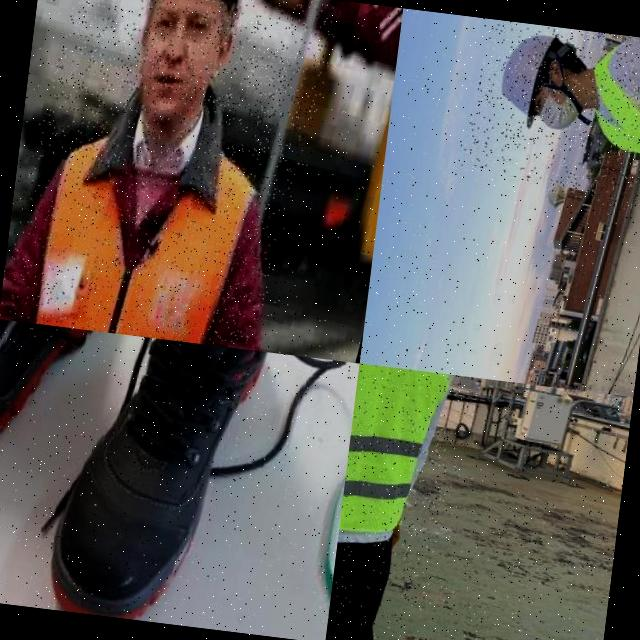boots: (35, 328, 329, 640), (0, 318, 140, 536)
helmet: (484, 19, 566, 139), (139, 0, 259, 23)
vest: (2, 96, 284, 350), (337, 363, 458, 555), (572, 30, 640, 179)
